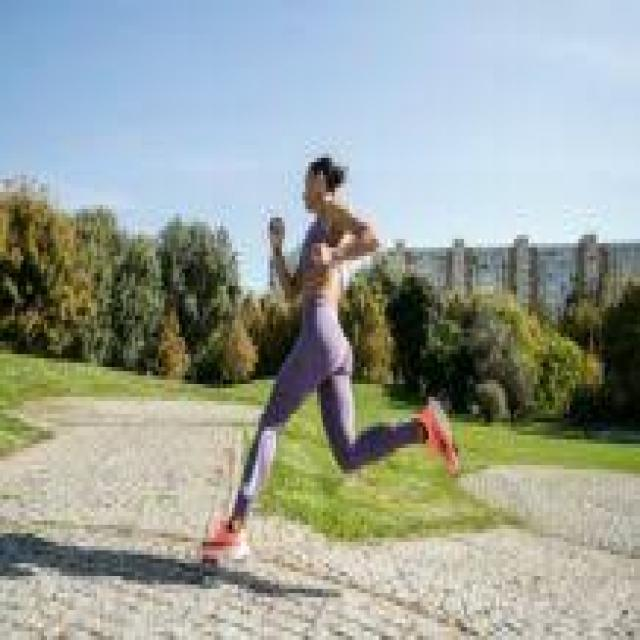running: (200, 156, 460, 559)
